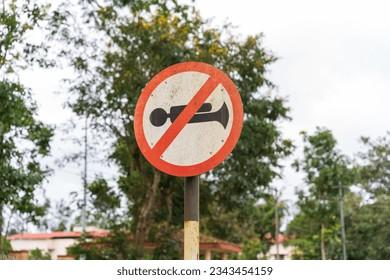Horn Prohibited: (130, 53, 309, 192)
